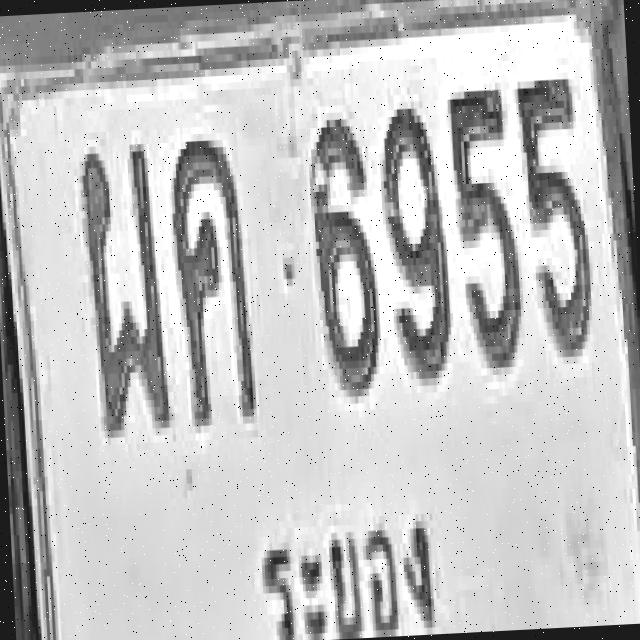13KhorKhwai: (167, 132, 256, 427)
37PhorPhueng: (78, 140, 170, 435)
5: (514, 71, 594, 359), (447, 82, 524, 369)
6: (306, 114, 381, 394)
9: (378, 100, 452, 380)
Rayong: (236, 492, 441, 640)
